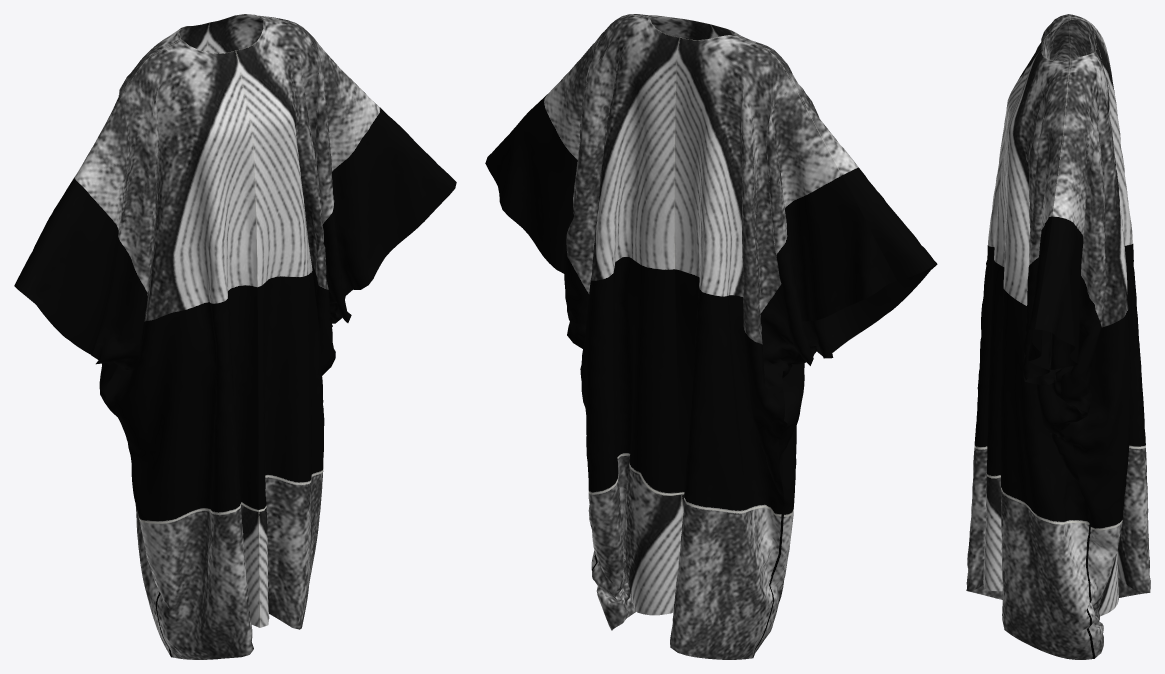
The model's file is women.glb.
The picture shows the model from 3 angles, left to right: view 1: azimuth 30°, elevation 25°; view 2: azimuth 150°, elevation 25°; view 3: azimuth 270°, elevation 25°; orthographic projection. The views are drawn at different scales.
Visible parts, largest first — view 1: Pattern2D_940607_Node_3, Pattern2D_940606_Node_2, Pattern2D_940608_Node_4, Pattern2D_940609_Node_5; view 2: Pattern2D_940608_Node_4, Pattern2D_940609_Node_5, Pattern2D_940607_Node_3, Pattern2D_940606_Node_2; view 3: Pattern2D_940606_Node_2, Pattern2D_940609_Node_5, Pattern2D_940608_Node_4, Pattern2D_940607_Node_3.
Boxes of the visible parts, <box> form: Pattern2D_940607_Node_3: <box>14,39,259,659</box>; Pattern2D_940606_Node_2: <box>235,20,456,629</box>; Pattern2D_940608_Node_4: <box>99,22,209,656</box>; Pattern2D_940609_Node_5: <box>207,14,435,314</box>; Pattern2D_940608_Node_4: <box>670,34,896,659</box>; Pattern2D_940609_Node_5: <box>485,15,682,629</box>; Pattern2D_940607_Node_3: <box>711,24,937,657</box>; Pattern2D_940606_Node_2: <box>591,14,715,630</box>; Pattern2D_940606_Node_2: <box>983,49,1094,659</box>; Pattern2D_940609_Node_5: <box>1035,43,1130,658</box>; Pattern2D_940608_Node_4: <box>1068,14,1150,597</box>; Pattern2D_940607_Node_3: <box>966,14,1070,599</box>.
Bounding box in the file's own units: 1.25 × 1.68 × 0.469.
1 material, 1 textured.
